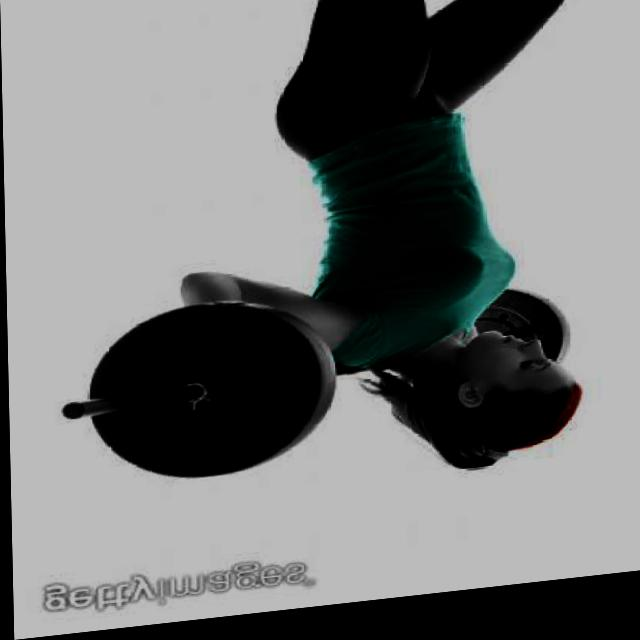barbell: (79, 289, 348, 500)
